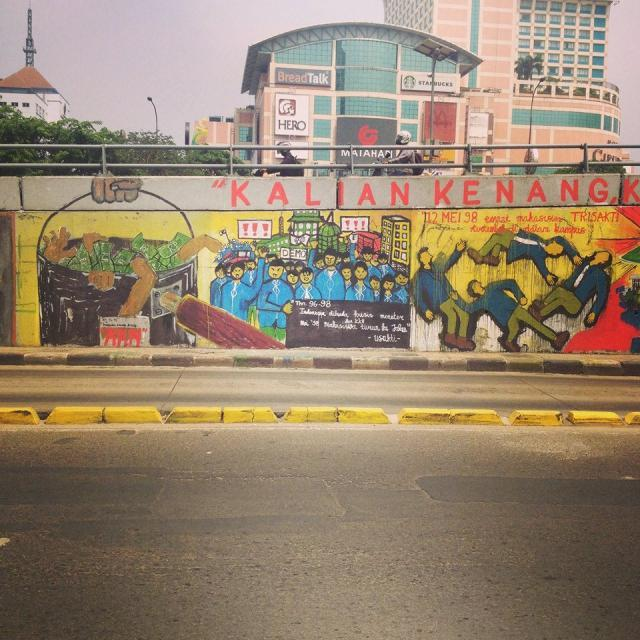-: (0, 210, 640, 351), (211, 179, 640, 207)
